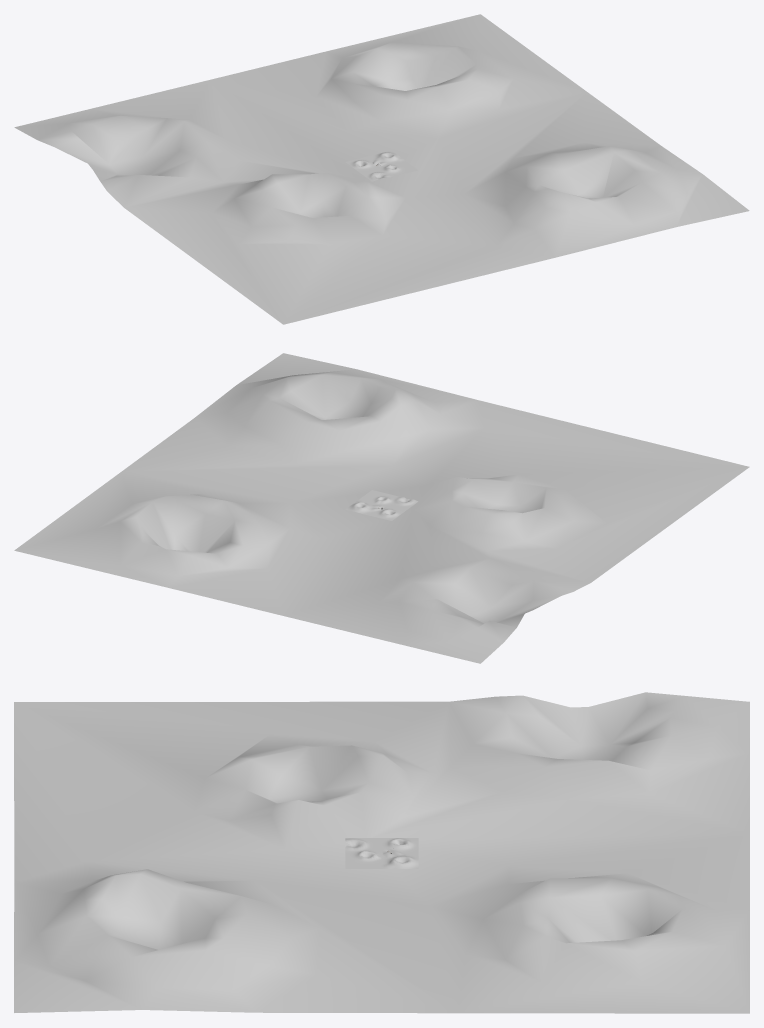
Rendered from Map_5.fbx.
3 renders of one model, top to bottom at view 1: azimuth 30°, elevation 25°; view 2: azimuth 150°, elevation 25°; view 3: azimuth 270°, elevation 25°, orthographic. The views are drawn at different scales.
Parts seen in each view (by area): view 1: Plane_big, Plane_small; view 2: Plane_big, Plane_small; view 3: Plane_big, Plane_small.
Part boxes in pixels (<box>): Plane_big: <box>14,14,749,324</box>; Plane_small: <box>345,150,418,181</box>; Plane_big: <box>14,353,749,663</box>; Plane_small: <box>345,490,418,520</box>; Plane_big: <box>14,692,749,1013</box>; Plane_small: <box>345,838,418,868</box>.
Bounding box in the file's own units: 16001 × 1533 × 16001.
